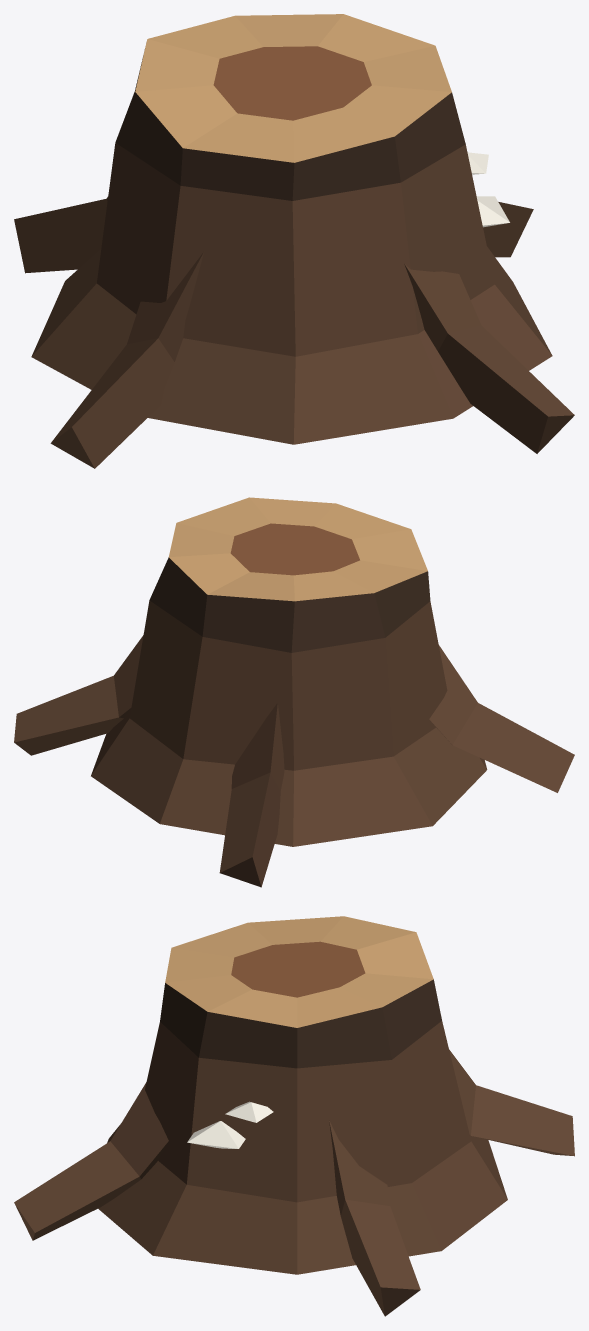
Rendered from stump.glb.
3 views of the same model, one above another, from view 1: azimuth 30°, elevation 25°; view 2: azimuth 150°, elevation 25°; view 3: azimuth 270°, elevation 25° (orthographic). The views are drawn at different scales.
Parts seen in each view (by area): view 1: Body; view 2: Body; view 3: Body.
Boxes of the visible parts, x1,y1,x2,y2 form: Body: (14,14,574,468); Body: (14,497,574,887); Body: (14,916,574,1316).
Bounding box in the file's own units: 1.46 × 0.6999 × 1.46.
